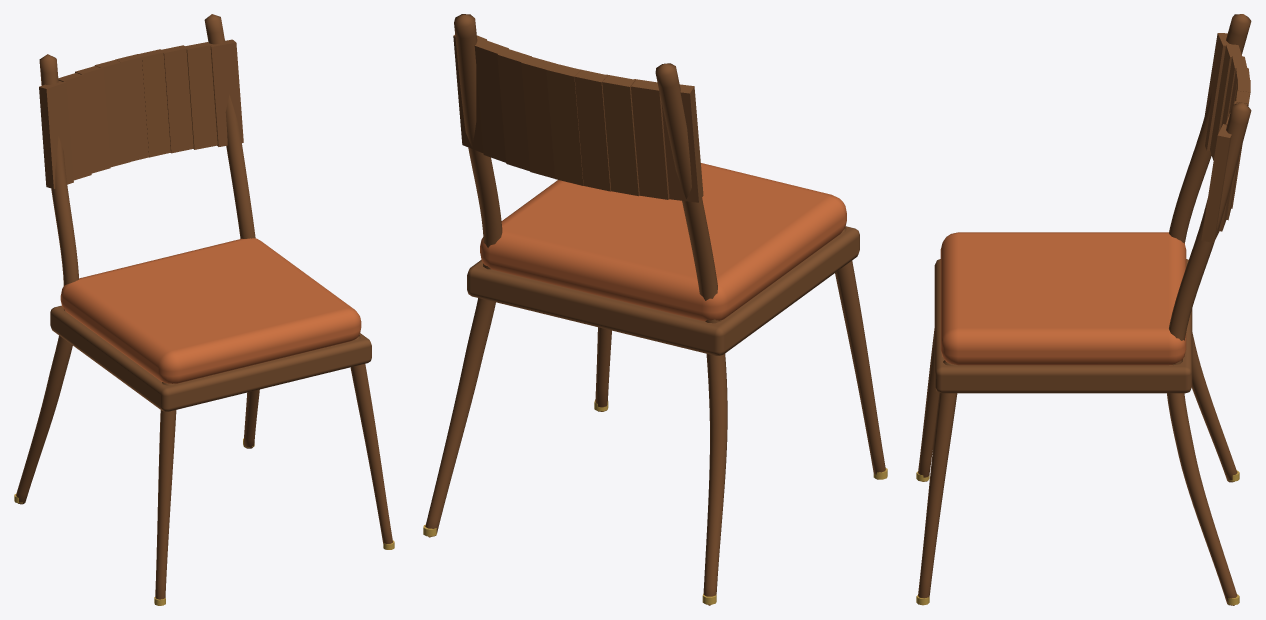
The model's file is original.glb.
The picture shows the model from 3 angles, left to right: view 1: azimuth 30°, elevation 25°; view 2: azimuth 150°, elevation 25°; view 3: azimuth 270°, elevation 25°; orthographic projection. The views are drawn at different scales.
Visible parts, largest first — view 1: Seat cushion, Backrest, Legs, Seat frame; view 2: Seat cushion, Backrest, Legs, Seat frame; view 3: Seat cushion, Legs, Seat frame, Backrest.
Part boxes in pixels (x1,y1,x2,y2): Seat cushion: (60, 238, 361, 383); Backrest: (39, 39, 243, 188); Legs: (16, 14, 392, 599); Seat frame: (50, 305, 371, 411); Seat cushion: (480, 163, 846, 321); Backrest: (453, 35, 703, 202); Legs: (425, 14, 885, 605); Seat frame: (467, 226, 859, 355); Seat cushion: (940, 232, 1186, 365); Legs: (918, 14, 1251, 605); Seat frame: (934, 259, 1192, 393); Backrest: (1201, 33, 1250, 242).
Bounding box in the file's own units: 0.5225 × 0.9159 × 0.5726.
